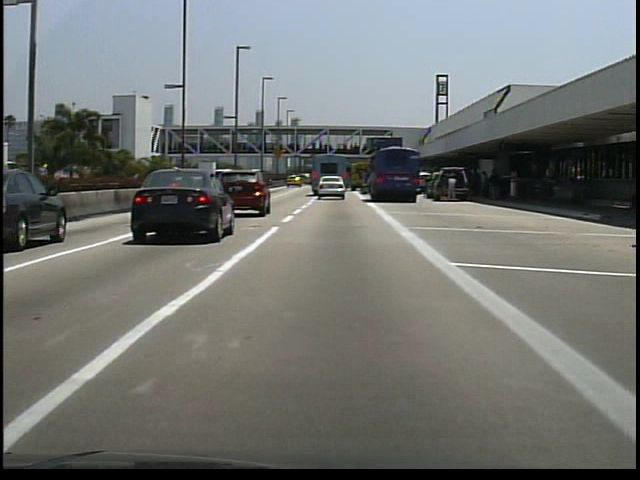person: (486, 167, 503, 206), (445, 175, 459, 205)
